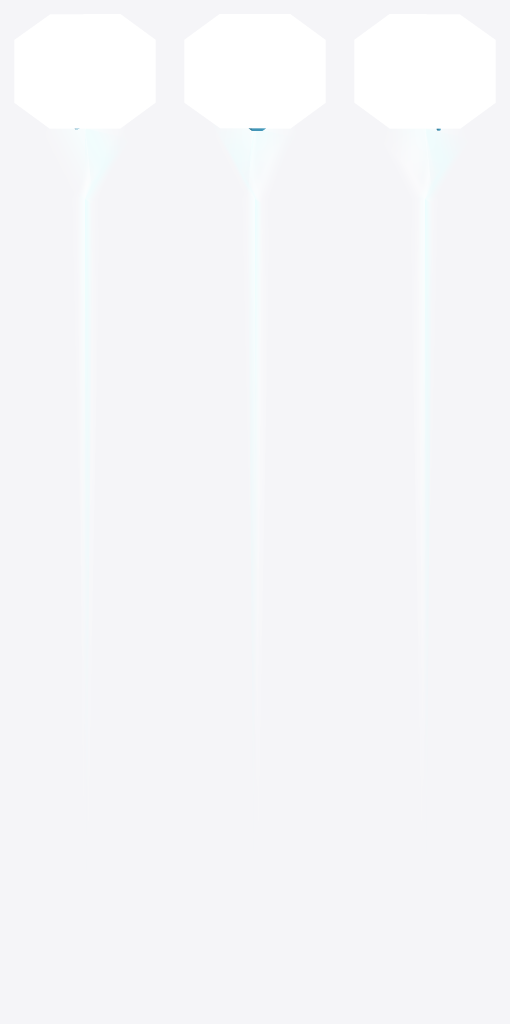
File: pin.glb
3 renders of one model, left to right at view 1: azimuth 30°, elevation 25°; view 2: azimuth 150°, elevation 25°; view 3: azimuth 330°, elevation 25°, orthographic.
Visible parts, largest first — view 1: Curve.001, Plane; view 2: Curve.001, Plane; view 3: Curve.001, Plane.
Boxes of the visible parts, x1,y1,x2,y2 form: Curve.001: (14,14,155,128); Plane: (51,128,121,717); Curve.001: (184,14,325,128); Plane: (216,127,291,715); Curve.001: (354,14,495,128); Plane: (391,128,460,717).
Size of the model in its own units: 2.05 by 17.9 by 2.34.
Materials: 3 (1 with a texture image).
